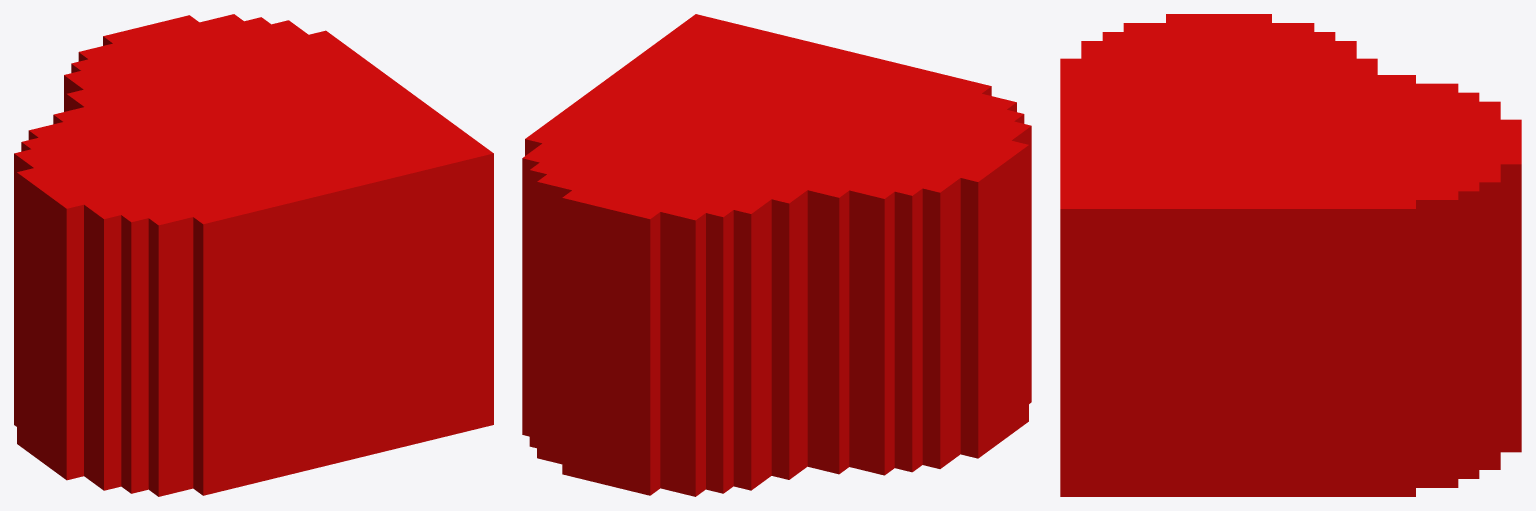
The model's file is ハート.fbx.
3 views of the same model, side by side, from view 1: azimuth 30°, elevation 25°; view 2: azimuth 150°, elevation 25°; view 3: azimuth 270°, elevation 25° (orthographic). The views are drawn at different scales.
Parts seen in each view (by area): view 1: 立方体, 円柱, 円柱.001; view 2: 円柱.001, 円柱, 立方体; view 3: 立方体, 円柱.001, 円柱.
Boxes of the visible parts, left/top/right/bottom form: 立方体: left=87, top=45, right=493, bottom=487; 円柱: left=14, top=107, right=237, bottom=496; 円柱.001: left=64, top=14, right=345, bottom=111; 円柱.001: left=522, top=124, right=808, bottom=496; 円柱: left=806, top=78, right=1031, bottom=475; 立方体: left=545, top=14, right=959, bottom=188; 立方体: left=1060, top=75, right=1377, bottom=496; 円柱.001: left=1373, top=75, right=1521, bottom=496; 円柱: left=1060, top=14, right=1377, bottom=76.
Size of the model in its own units: 303 by 208 by 303.
